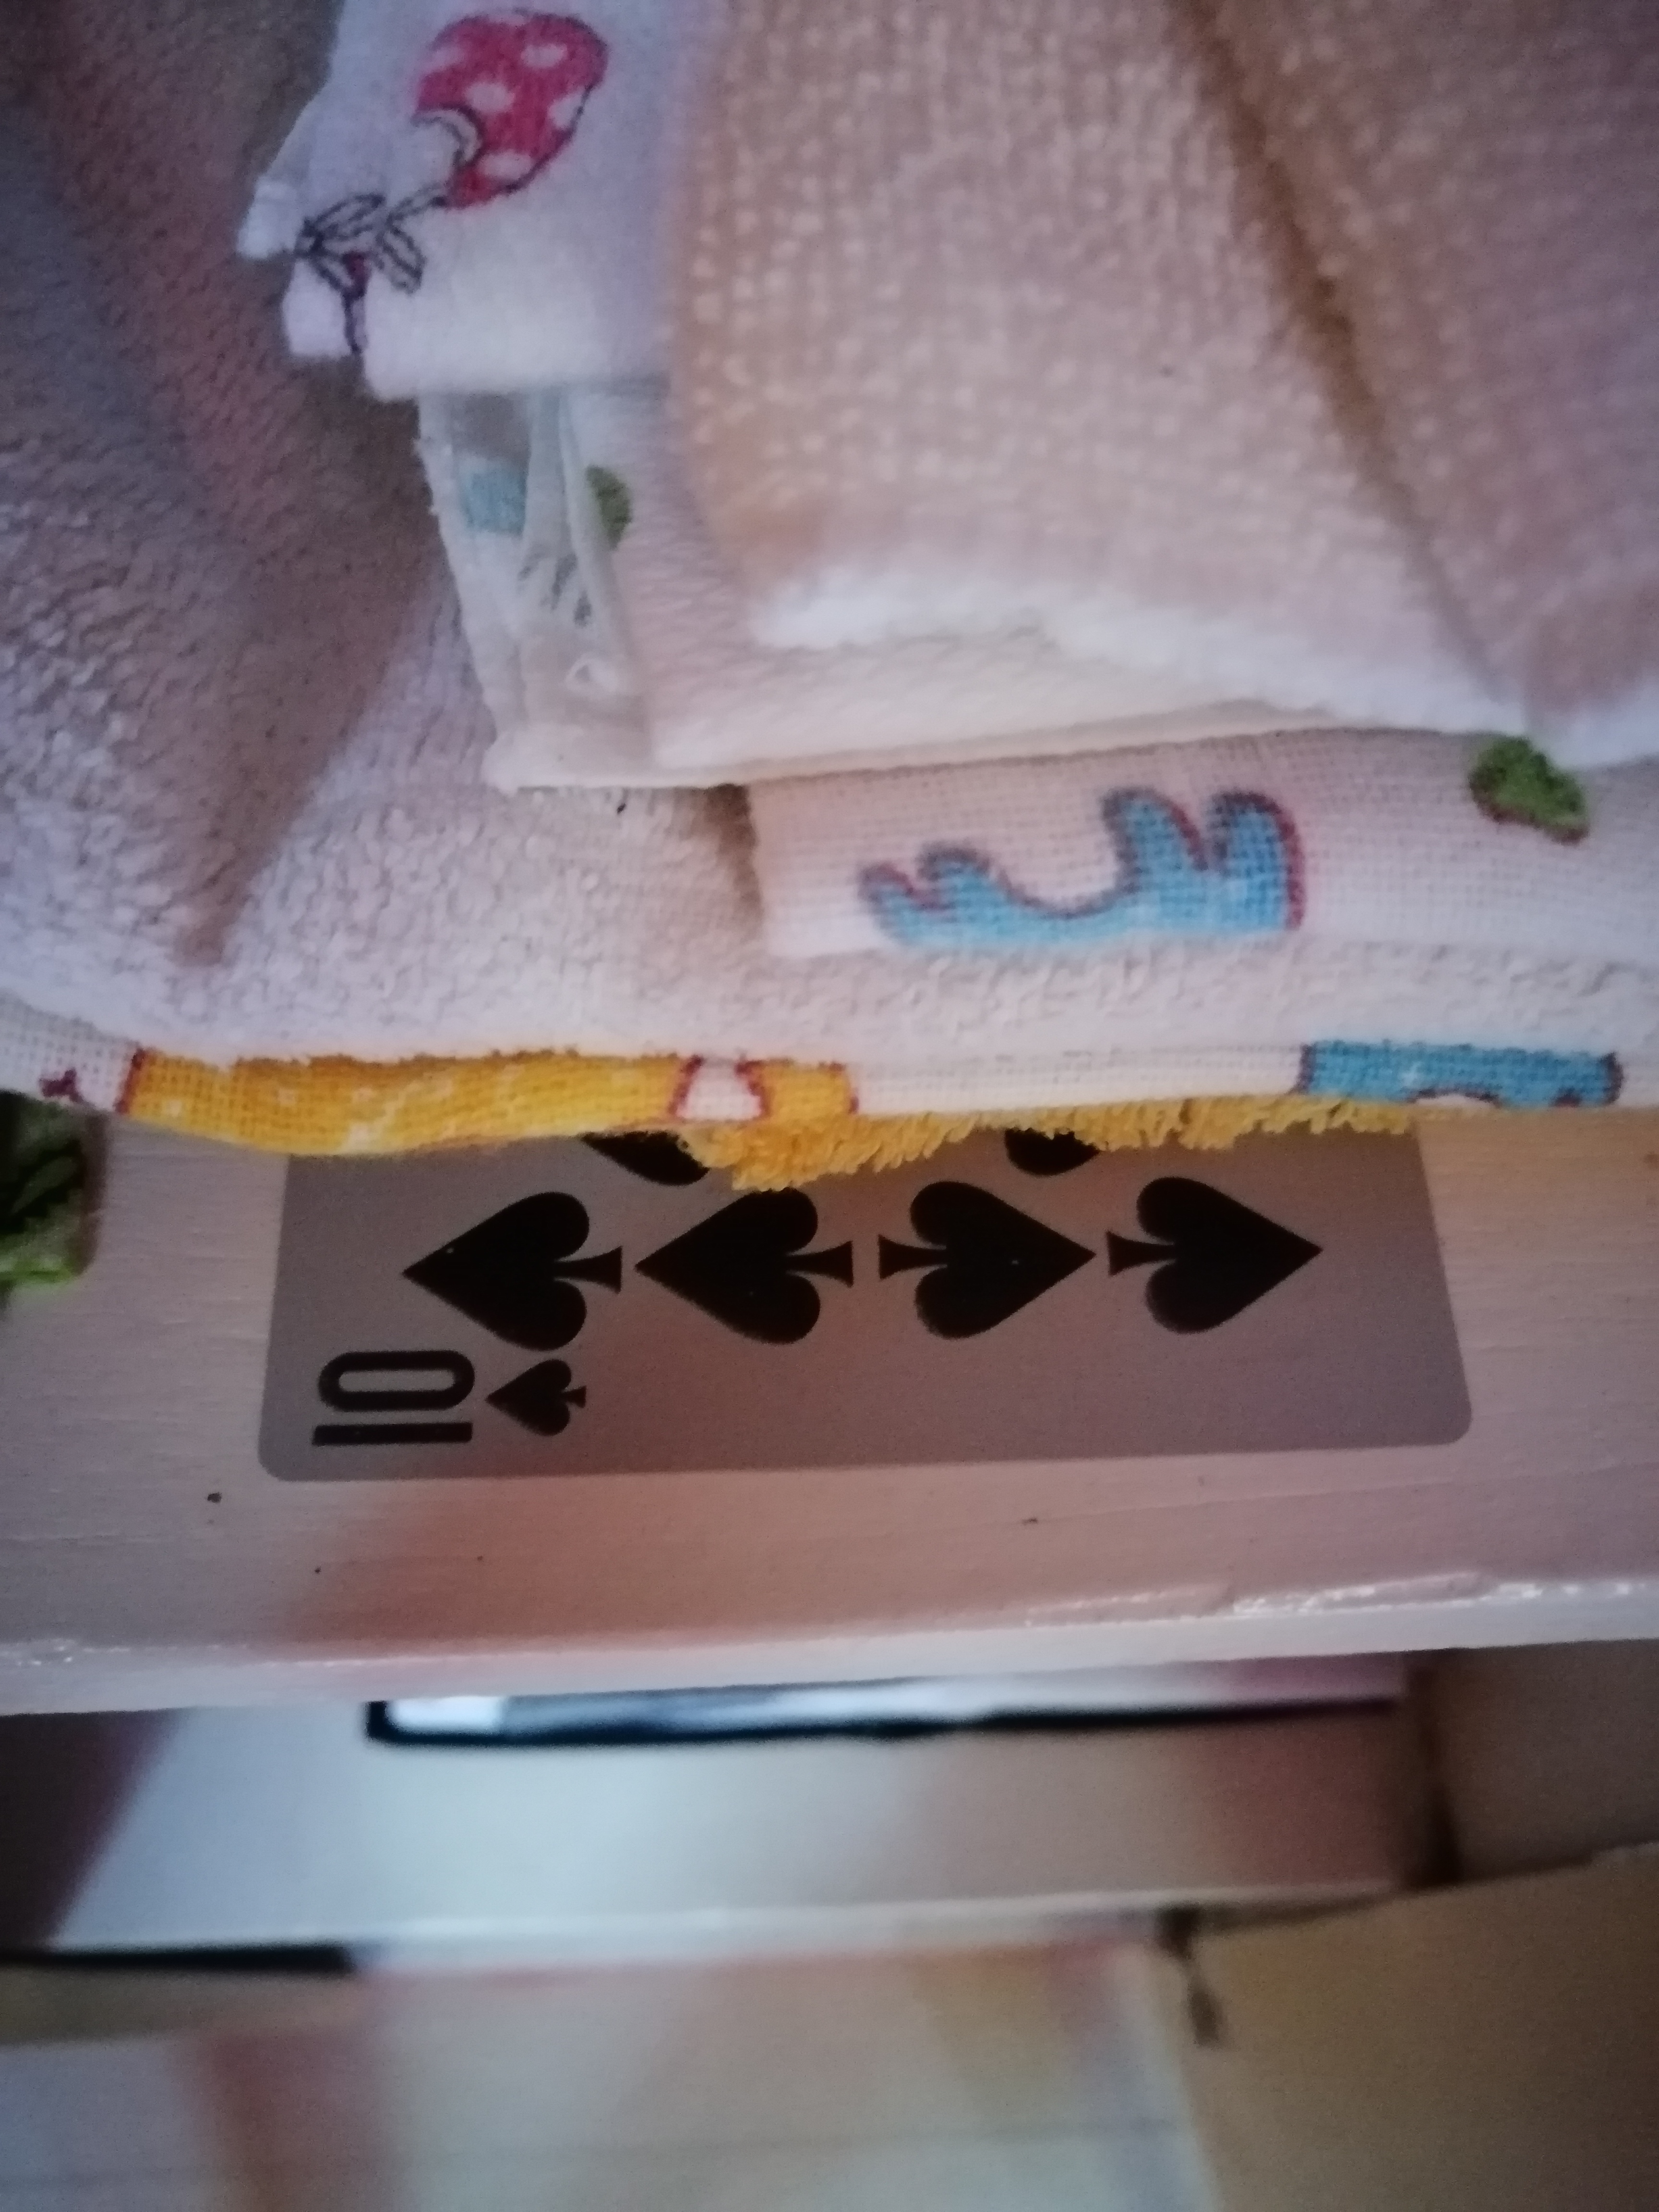ten: (240, 1104, 1534, 1480)
